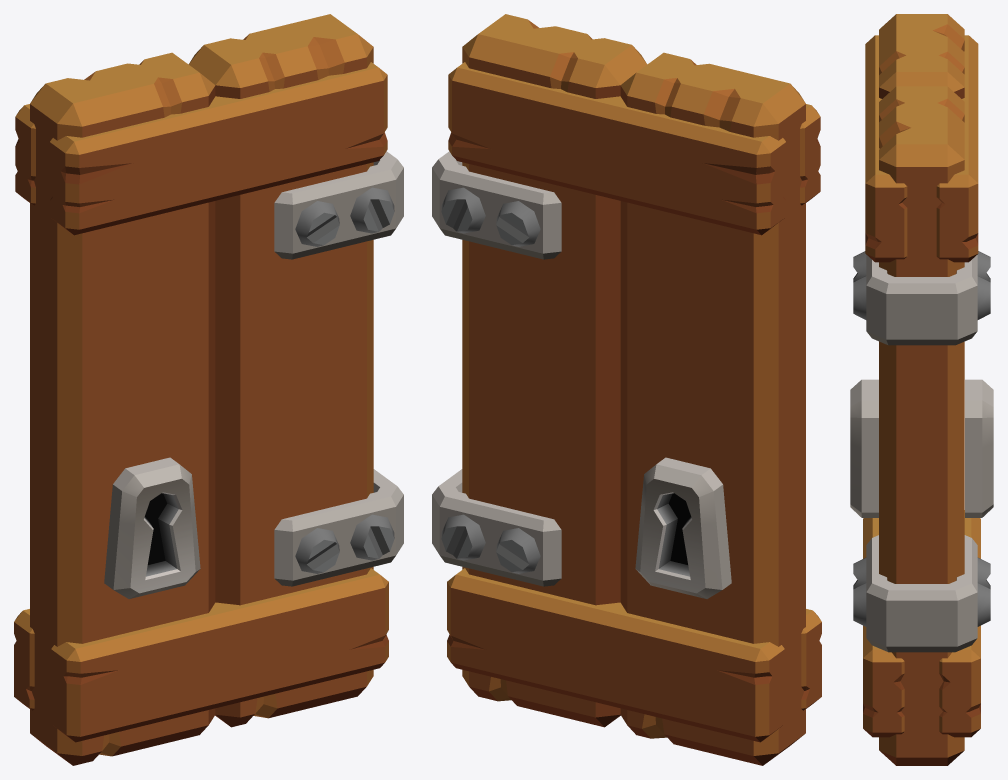
Rendered from m_dec_dung_doorWoodLargeKey.fbx.
3 views of the same model, side by side, from view 1: azimuth 30°, elevation 25°; view 2: azimuth 150°, elevation 25°; view 3: azimuth 270°, elevation 25° (orthographic). The views are drawn at different scales.
Visible parts, largest first — view 1: m_dec_dung_doorWoodLargeKey; view 2: m_dec_dung_doorWoodLargeKey; view 3: m_dec_dung_doorWoodLargeKey.
Boxes of the visible parts, left/top/right/bottom form: m_dec_dung_doorWoodLargeKey: left=14, top=14, right=403, bottom=765; m_dec_dung_doorWoodLargeKey: left=432, top=14, right=821, bottom=765; m_dec_dung_doorWoodLargeKey: left=850, top=14, right=993, bottom=765.
Size of the model in its own units: 2.18 by 4 by 0.8371.
